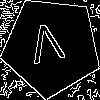V: (27, 21, 68, 73)
